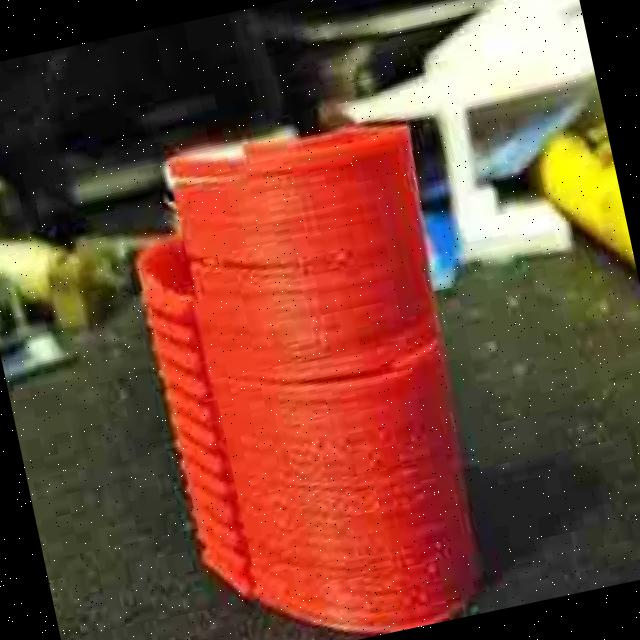cracks: (235, 355, 417, 395), (169, 157, 302, 195), (183, 247, 290, 283)
